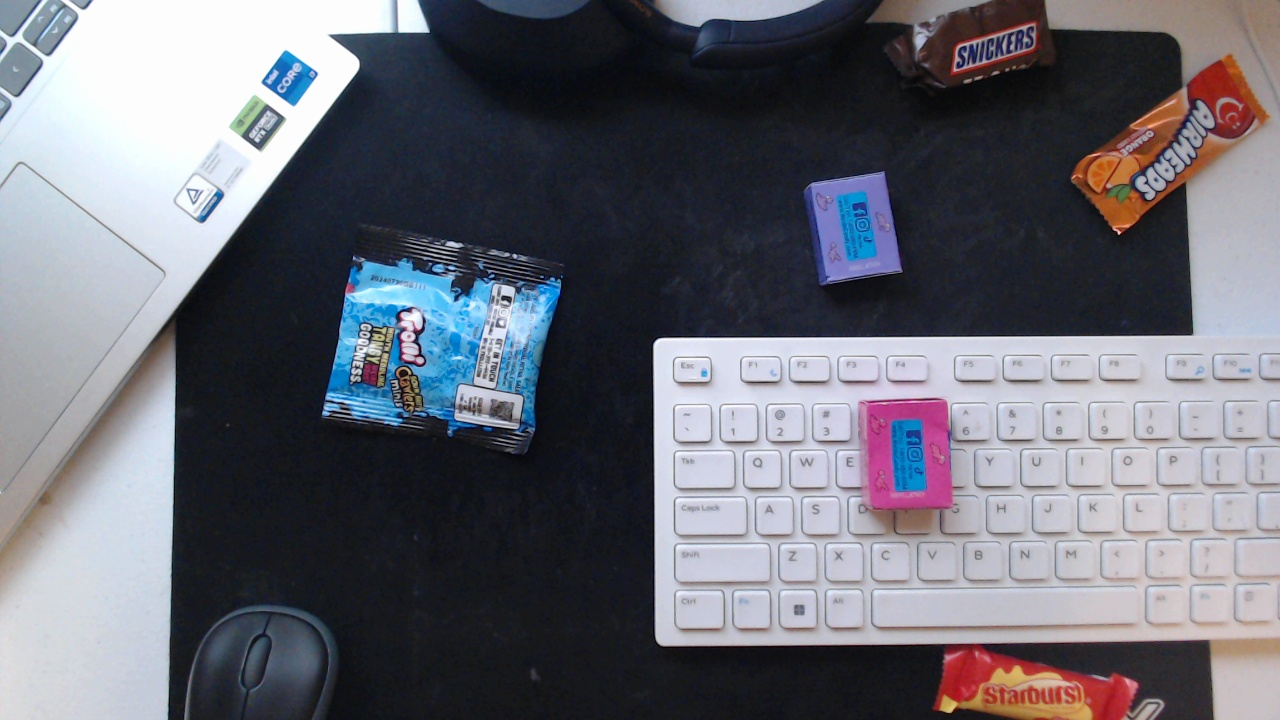airheads: (1071, 49, 1272, 259)
gummy_worms: (316, 197, 582, 480)
nerds: (799, 172, 920, 317), (856, 382, 968, 533)
snickers: (862, 0, 1060, 102)
starbust: (920, 638, 1219, 720)
